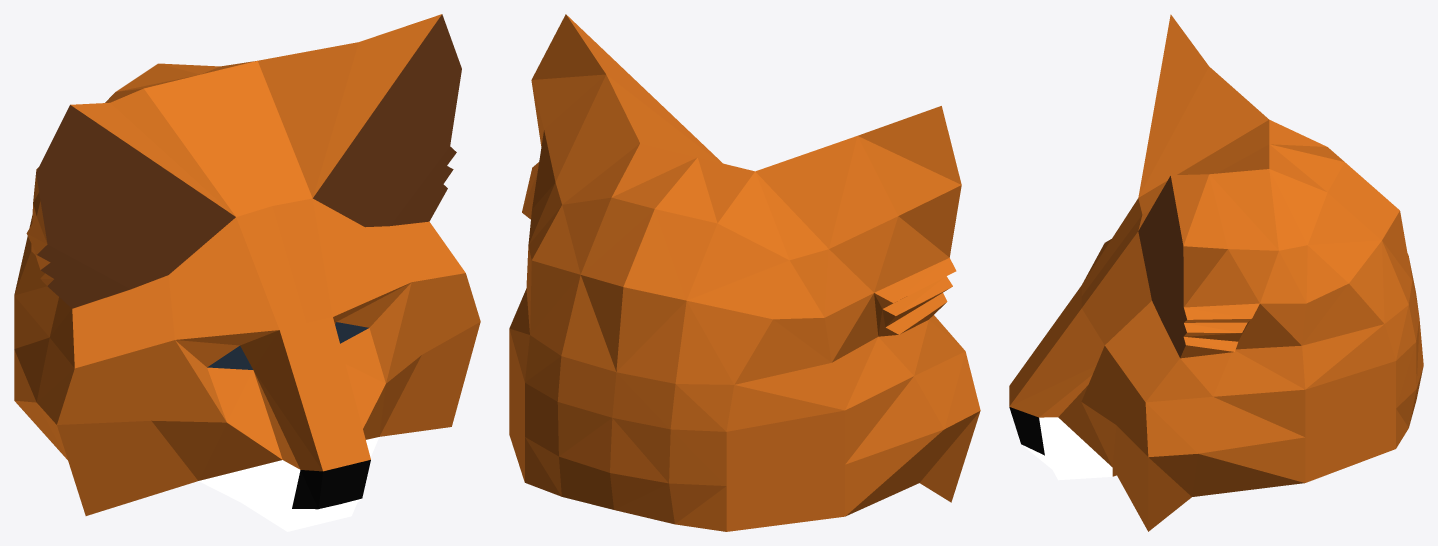
File: fox.glb
3 renders of one model, left to right at view 1: azimuth 30°, elevation 25°; view 2: azimuth 150°, elevation 25°; view 3: azimuth 270°, elevation 25°, orthographic. The views are drawn at different scales.
Parts seen in each view (by area): view 1: Plane.004; view 2: Plane.004; view 3: Plane.004.
Part boxes in pixels (x1,y1,x2,y2): Plane.004: [14, 14, 480, 531]; Plane.004: [509, 14, 980, 531]; Plane.004: [1009, 14, 1423, 531].
Size of the model in its own units: 1.89 by 1.77 by 1.79.
